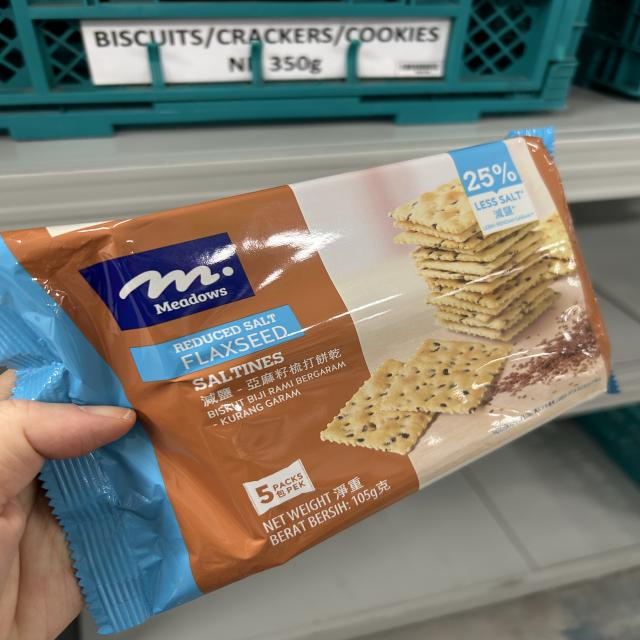object_name: (49, 235, 583, 415)
